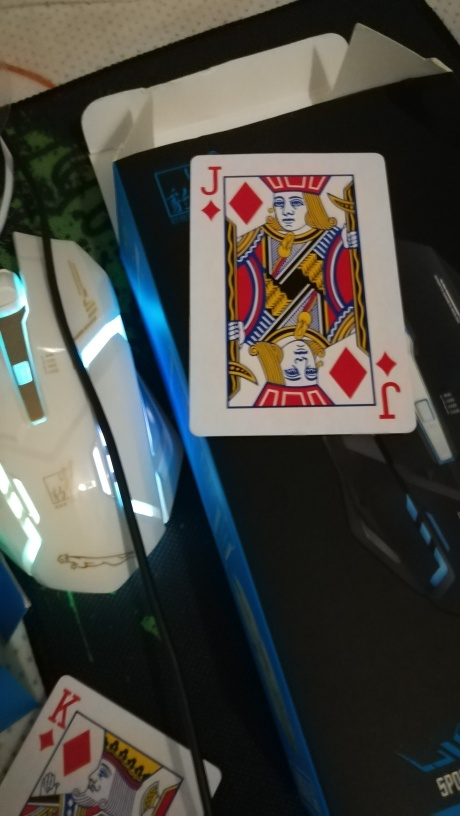fk j: (187, 152, 419, 437)
